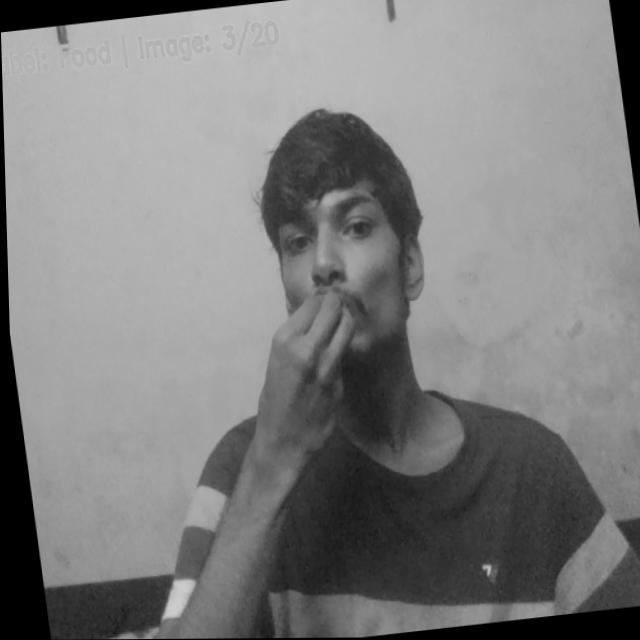Food: (232, 281, 376, 457)
